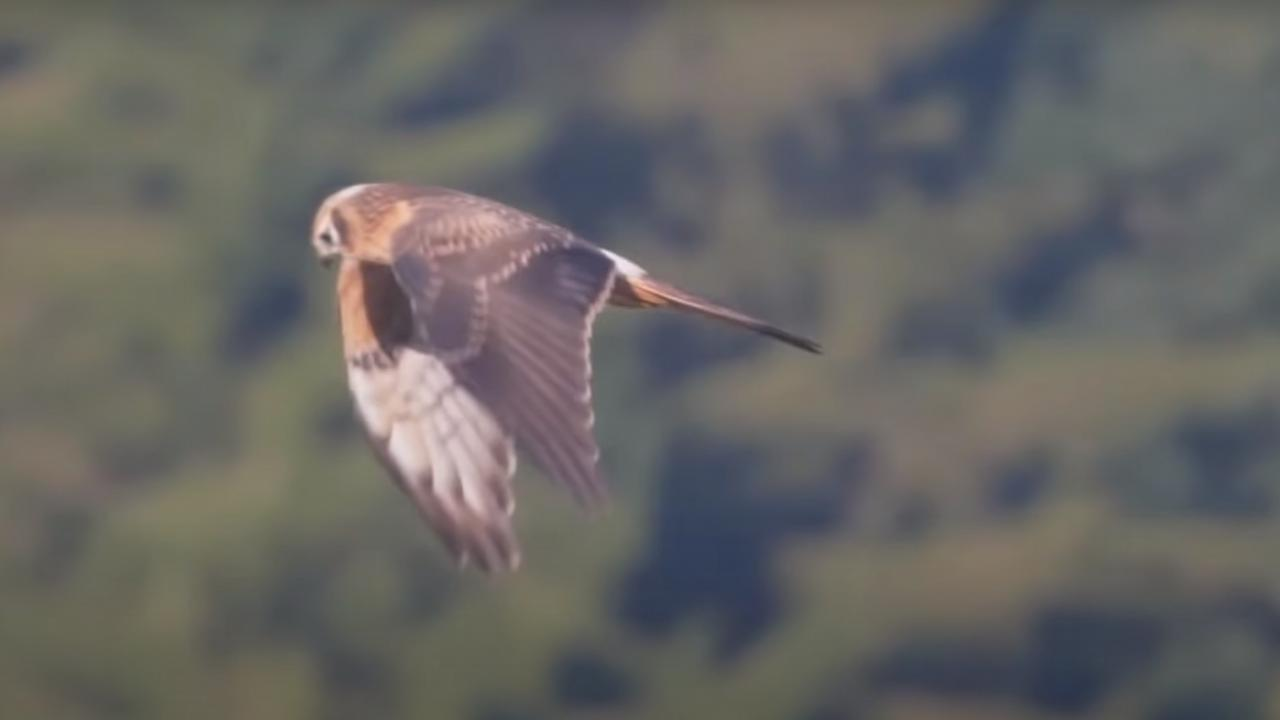Bird: (297, 172, 831, 596)
